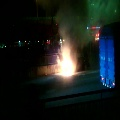fire: (60, 51, 75, 76)
